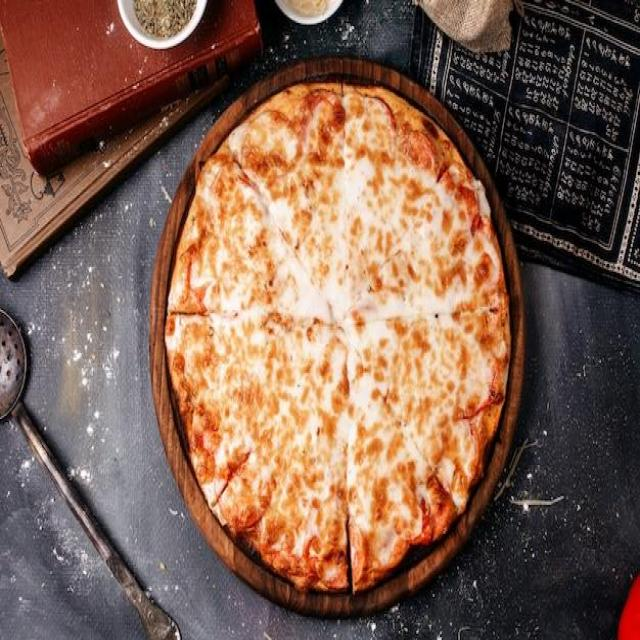pizza: (165, 81, 513, 593)
